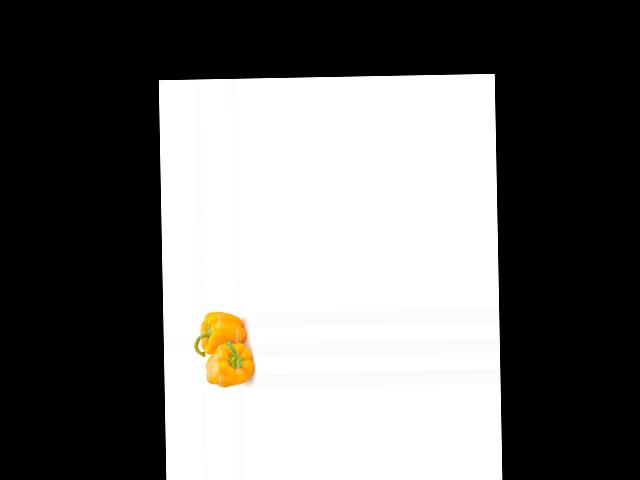bell_pepper: (195, 310, 247, 359)
